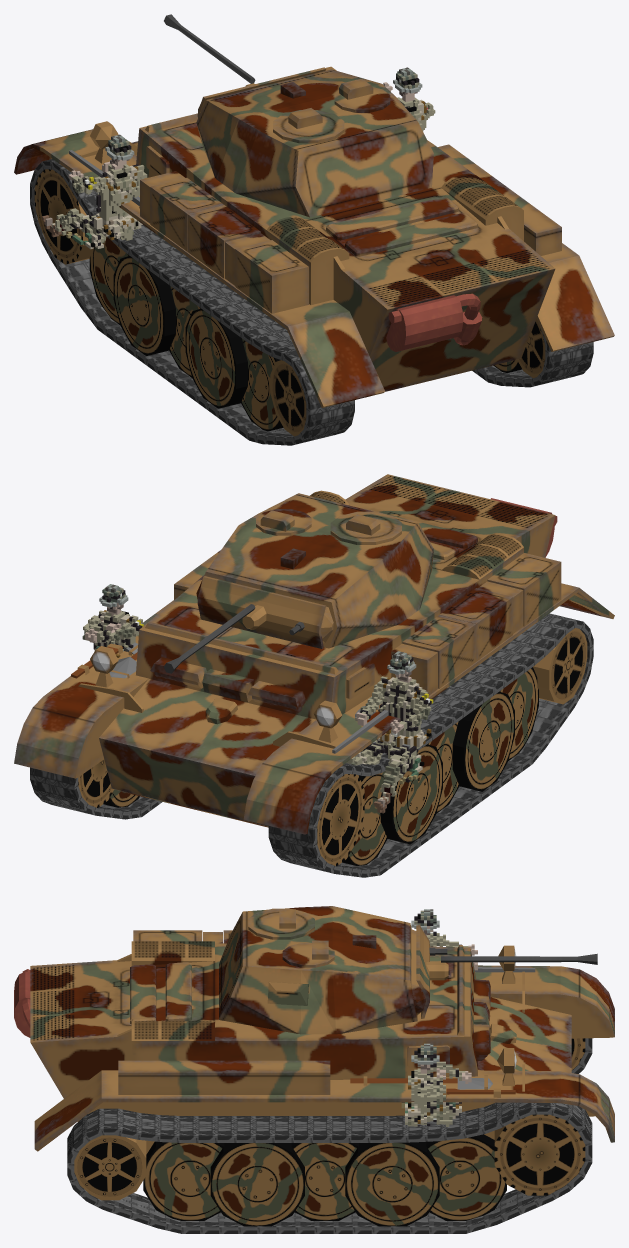
Rendered from luchs.glb.
3 views of the same model, one above another, from view 1: azimuth 30°, elevation 25°; view 2: azimuth 150°, elevation 25°; view 3: azimuth 270°, elevation 25° (orthographic). The views are drawn at different scales.
Parts seen in each view (by area): view 1: 00_chassis_luchs_chassis.mesh, 05_track_luchs_track.mesh, 03_turret_luchs_turret.mesh, crew_soldier_SLOT_00_DRIVER, 04_track_luchs_track.mesh, crew_soldier_SLOT_01_GUNNER, weapon_turret_0_luchs_cannon.mesh; view 2: 00_chassis_luchs_chassis.mesh, 05_track_luchs_track.mesh, 03_turret_luchs_turret.mesh, crew_soldier_SLOT_00_DRIVER, 04_track_luchs_track.mesh, crew_soldier_SLOT_01_GUNNER, weapon_turret_0_luchs_cannon.mesh; view 3: 00_chassis_luchs_chassis.mesh, 04_track_luchs_track.mesh, 03_turret_luchs_turret.mesh, crew_soldier_SLOT_01_GUNNER, weapon_turret_0_luchs_cannon.mesh, crew_soldier_SLOT_00_DRIVER, 05_track_luchs_track.mesh.
Part boxes in pixels (<box>): 00_chassis_luchs_chassis.mesh: <box>14,66,614,407</box>; 05_track_luchs_track.mesh: <box>30,159,354,445</box>; 03_turret_luchs_turret.mesh: <box>196,67,433,217</box>; crew_soldier_SLOT_00_DRIVER: <box>42,134,147,249</box>; 04_track_luchs_track.mesh: <box>472,319,593,387</box>; crew_soldier_SLOT_01_GUNNER: <box>383,67,435,131</box>; weapon_turret_0_luchs_cannon.mesh: <box>164,14,255,83</box>; 00_chassis_luchs_chassis.mesh: <box>14,474,614,834</box>; 05_track_luchs_track.mesh: <box>268,613,593,877</box>; 03_turret_luchs_turret.mesh: <box>196,493,433,648</box>; crew_soldier_SLOT_00_DRIVER: <box>346,651,433,813</box>; 04_track_luchs_track.mesh: <box>30,760,162,819</box>; crew_soldier_SLOT_01_GUNNER: <box>82,584,143,657</box>; weapon_turret_0_luchs_cannon.mesh: <box>164,604,255,673</box>; 00_chassis_luchs_chassis.mesh: <box>14,930,614,1154</box>; 04_track_luchs_track.mesh: <box>67,1102,592,1233</box>; 03_turret_luchs_turret.mesh: <box>219,906,448,1034</box>; crew_soldier_SLOT_01_GUNNER: <box>401,1043,471,1126</box>; weapon_turret_0_luchs_cannon.mesh: <box>441,953,597,964</box>; crew_soldier_SLOT_00_DRIVER: <box>411,909,477,970</box>; 05_track_luchs_track.mesh: <box>571,1038,592,1073</box>.
Bounding box in the file's own units: 3.69 × 2.62 × 5.91.
Materials: 41 (5 with a texture image).
